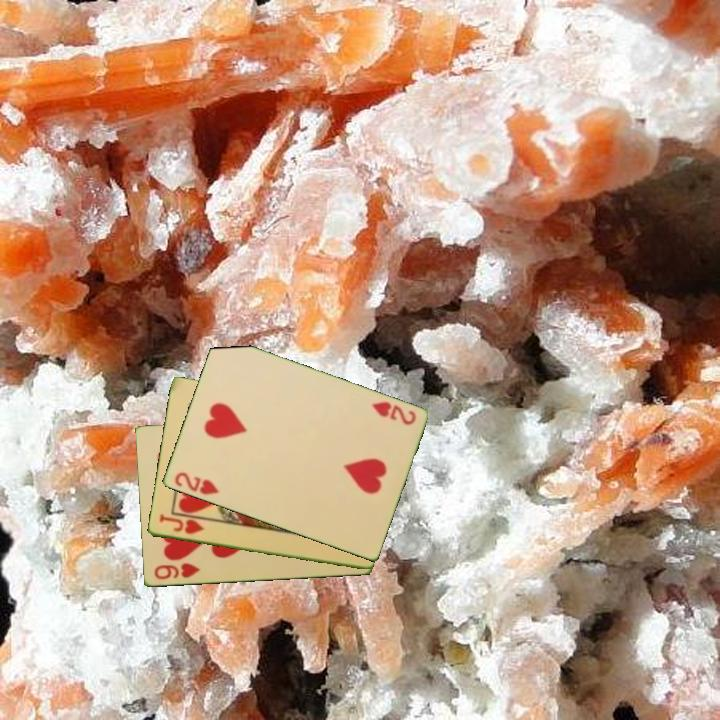2h: (171, 469, 222, 498), (369, 398, 418, 428)
9h: (151, 560, 202, 583)
Jh: (155, 511, 207, 537)
